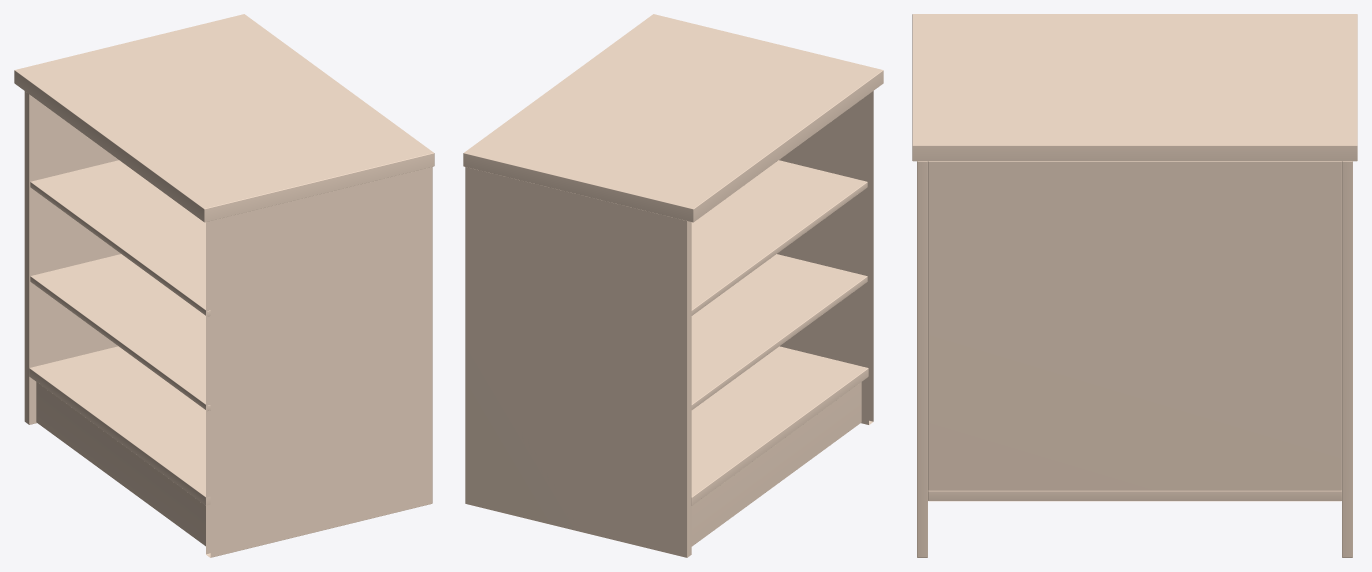
The model's file is Stainless-Cabinet.fbx.
The picture shows the model from 3 angles, left to right: view 1: azimuth 30°, elevation 25°; view 2: azimuth 150°, elevation 25°; view 3: azimuth 270°, elevation 25°; orthographic projection. The views are drawn at different scales.
Parts seen in each view (by area): view 1: Object_4; view 2: Object_4; view 3: Object_4.
Boxes of the visible parts, x1,y1,x2,y2 form: Object_4: (14,14,434,557); Object_4: (463,14,883,557); Object_4: (912,14,1357,557).
Bounding box in the file's own units: 57.32 × 83.79 × 81.92.
